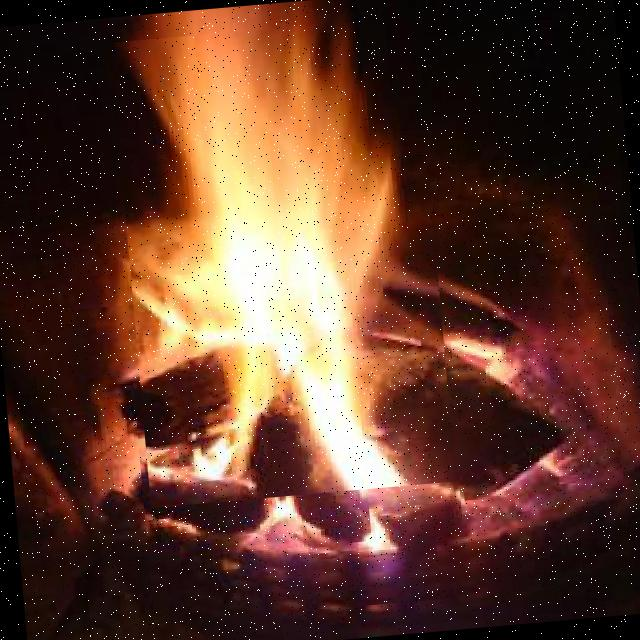fire: (110, 15, 456, 508)
